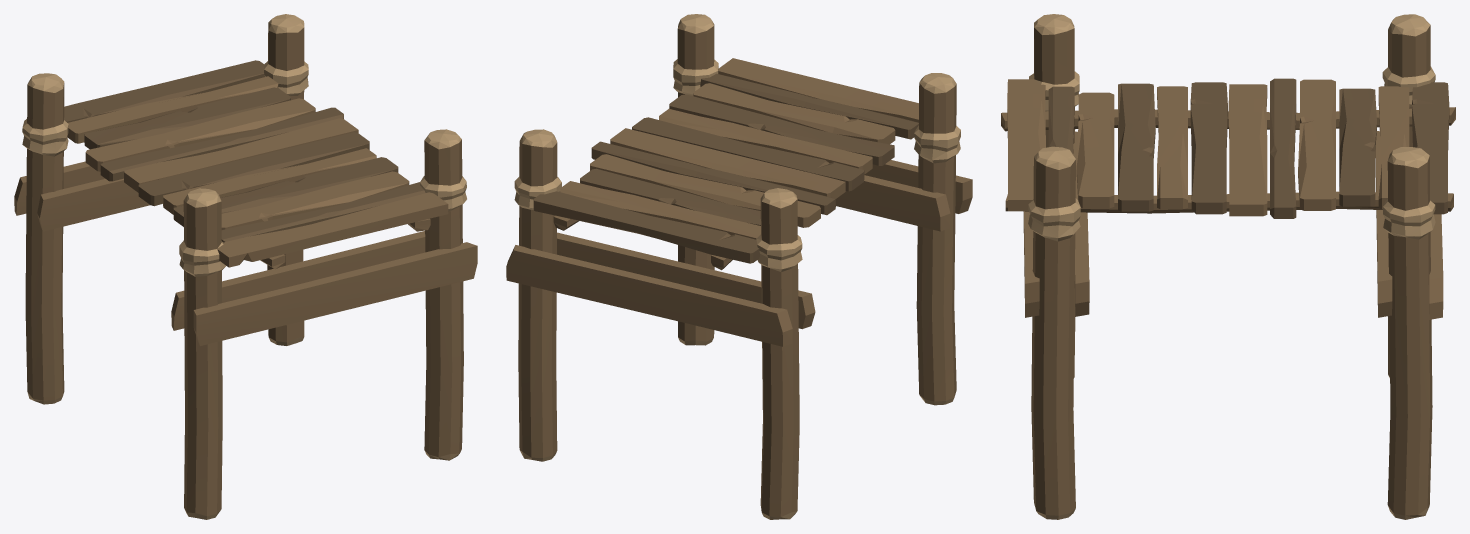
The model's file is Muelle_01.glb.
The picture shows the model from 3 angles, left to right: view 1: azimuth 30°, elevation 25°; view 2: azimuth 150°, elevation 25°; view 3: azimuth 270°, elevation 25°; orthographic projection. The views are drawn at different scales.
Visible parts, largest first — view 1: SM_Prop_Dock_01_1; view 2: SM_Prop_Dock_01_1; view 3: SM_Prop_Dock_01_1.
Part boxes in pixels (bbox=[...]): SM_Prop_Dock_01_1: bbox=[14, 14, 477, 519]; SM_Prop_Dock_01_1: bbox=[506, 14, 972, 519]; SM_Prop_Dock_01_1: bbox=[1001, 14, 1455, 519].
Bounding box in the file's own units: 4.05 × 4.43 × 5.02.
1 material, 1 textured.
